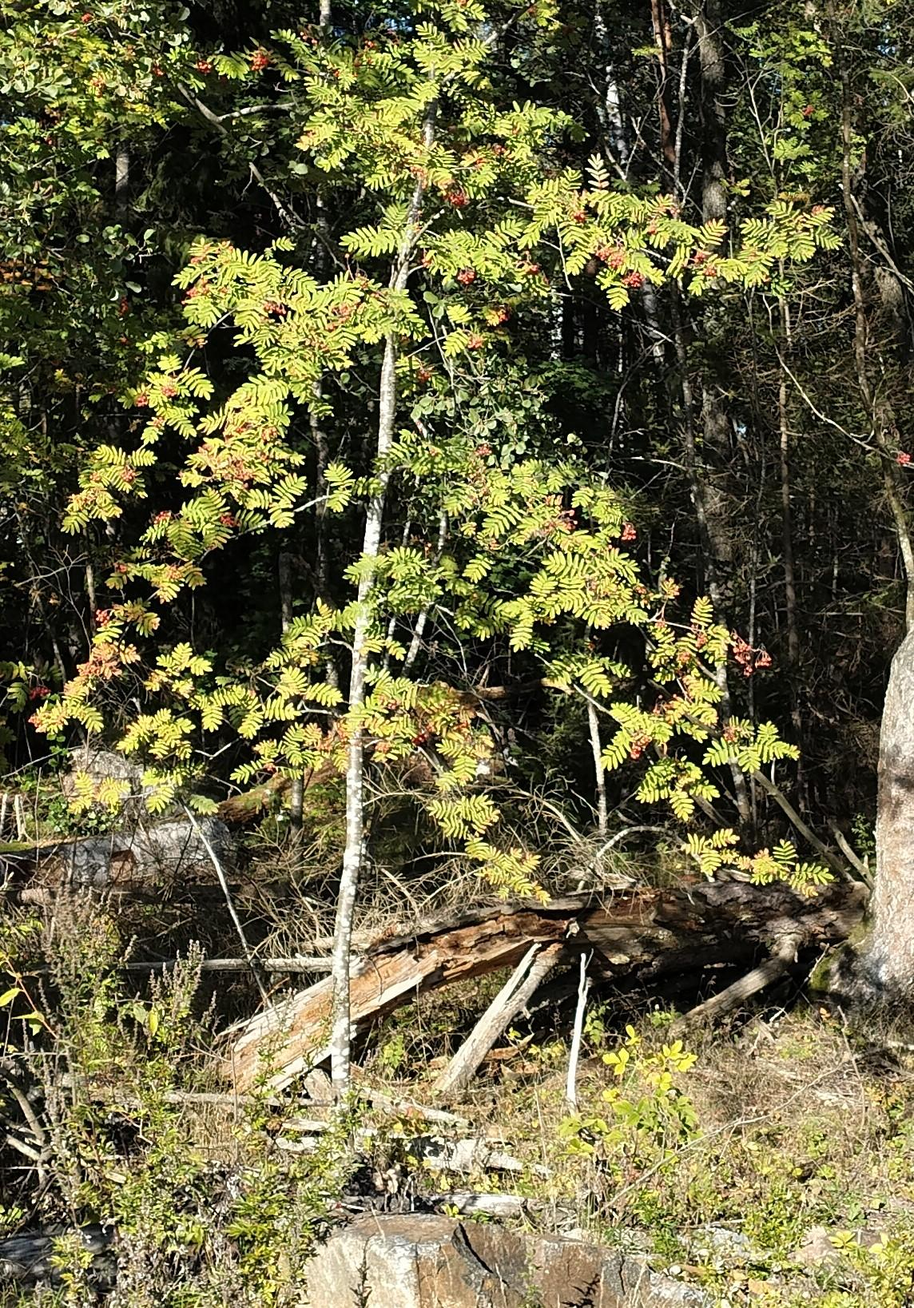Rowan: (100, 3, 782, 1180)
